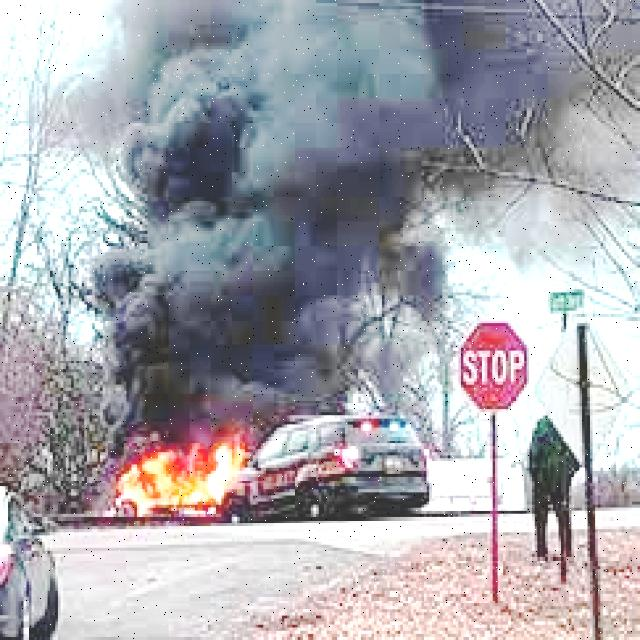api: (101, 417, 265, 549)
